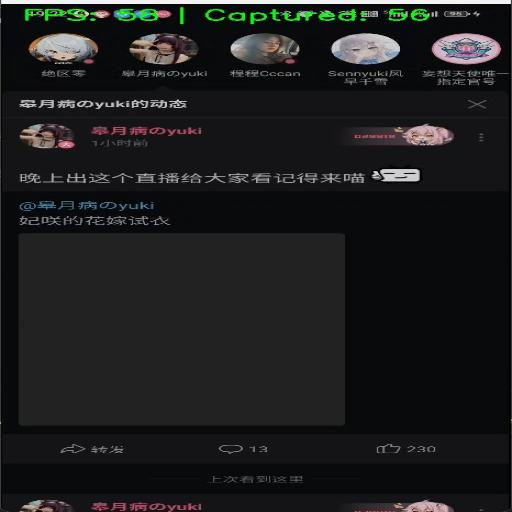butten: (323, 31, 411, 89), (108, 31, 212, 79), (224, 30, 314, 81), (32, 32, 108, 76)
close: (455, 94, 501, 113)
